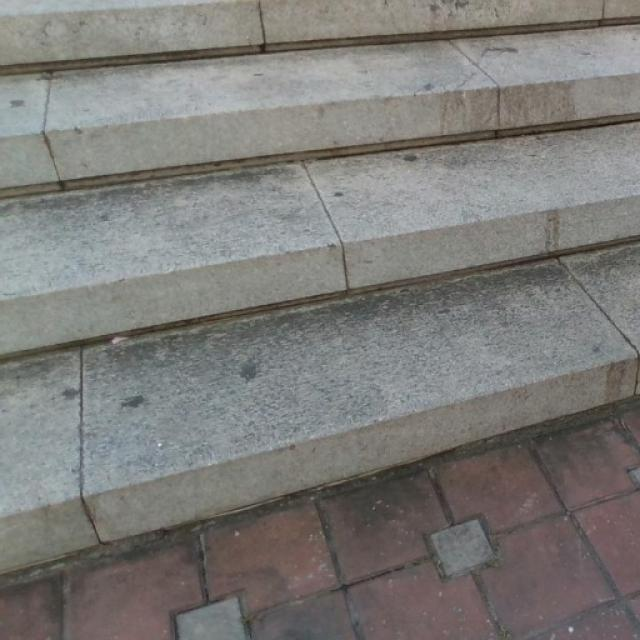Stairs: (0, 0, 639, 575)
